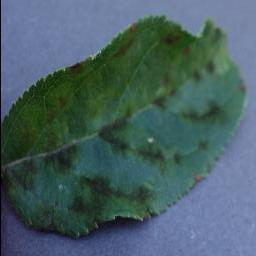apple healthy: (0, 13, 248, 239)
